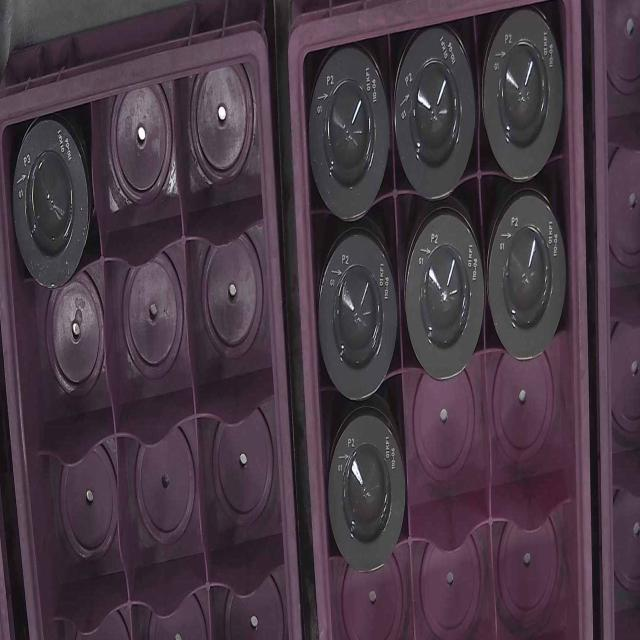P2: (314, 233, 400, 393), (488, 192, 569, 361), (484, 18, 565, 184), (396, 35, 474, 199), (405, 212, 483, 376), (312, 61, 389, 226), (327, 409, 406, 566)
P3: (11, 124, 96, 288)
